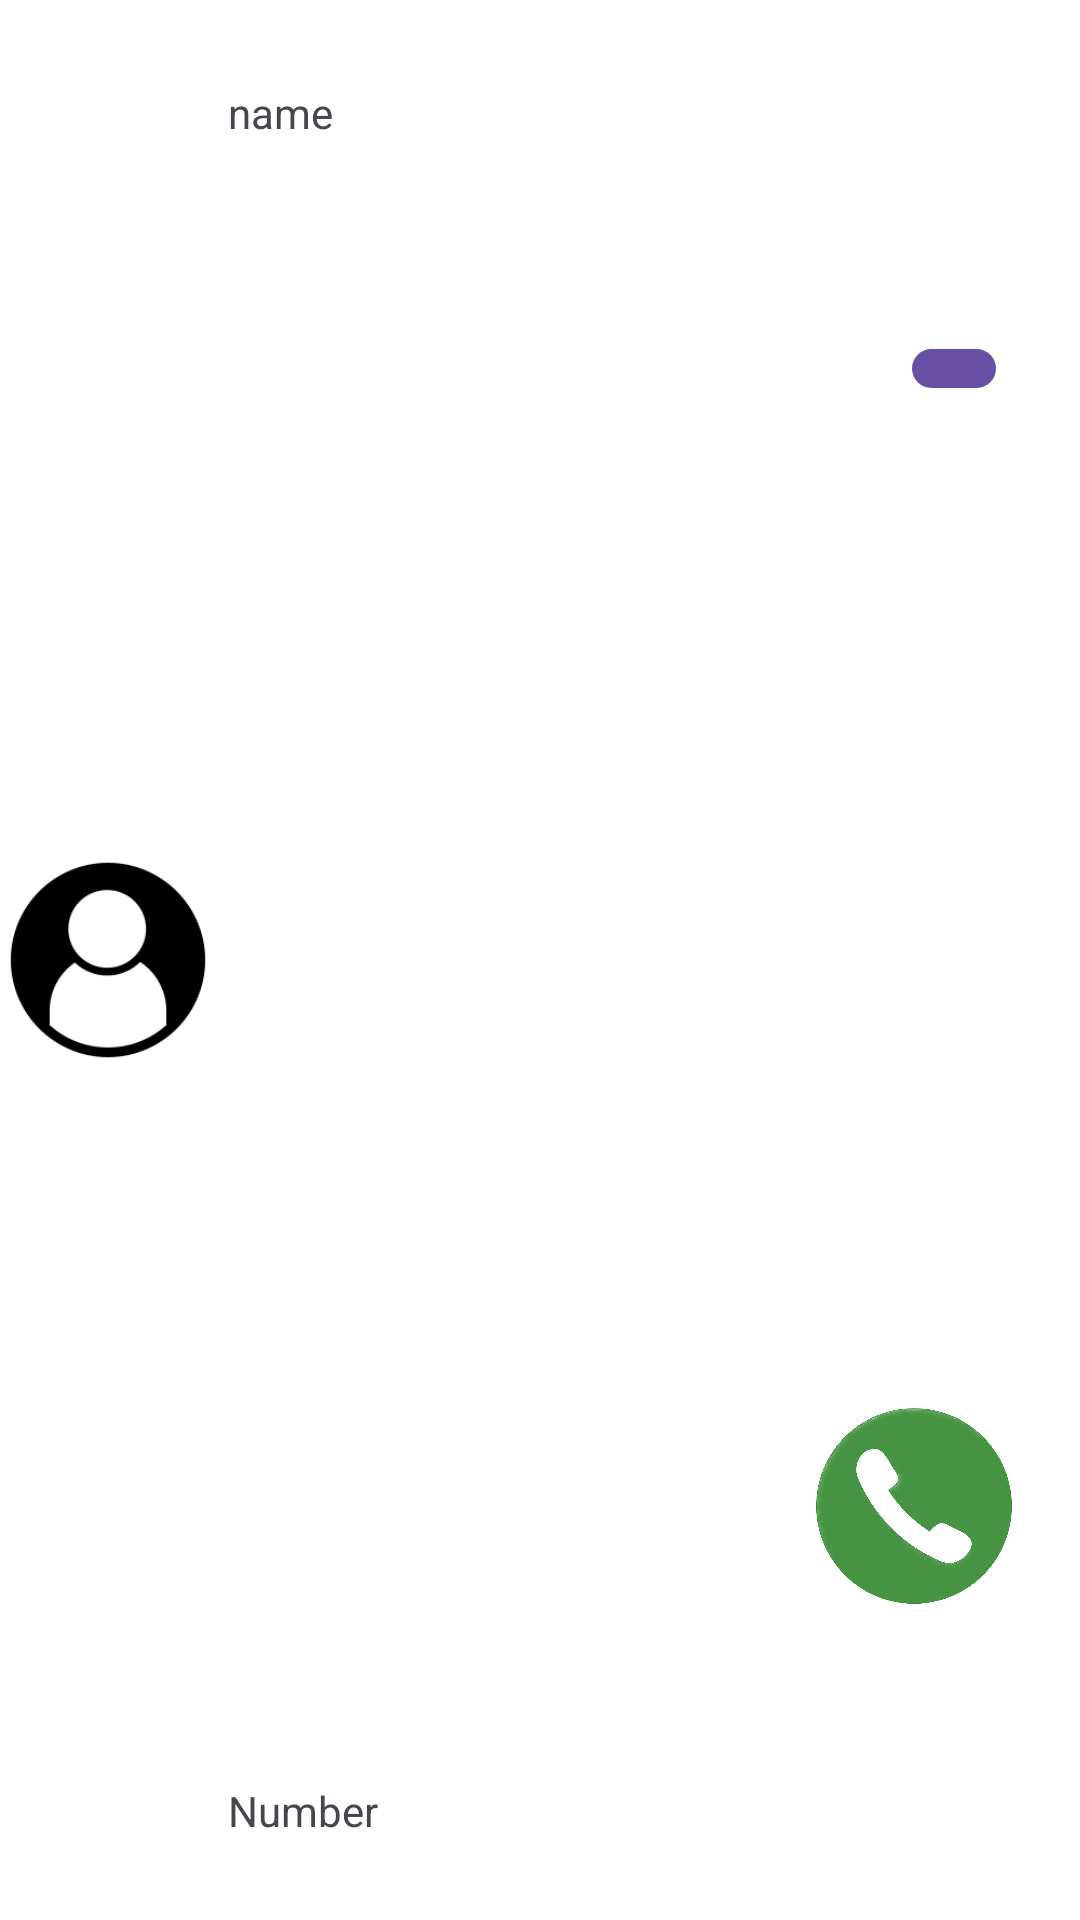

Icons on this 1080px×1920px Android screen, each with the point to tap as (x,y):
call: (914,1506)
contacts: (108,960)
